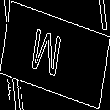M_S: (37, 25, 73, 85)
